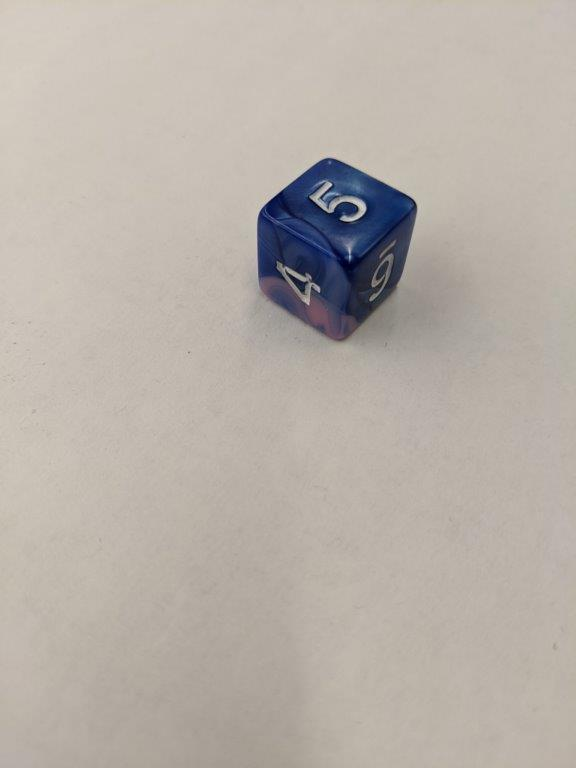d6-5: (256, 158, 418, 340)
